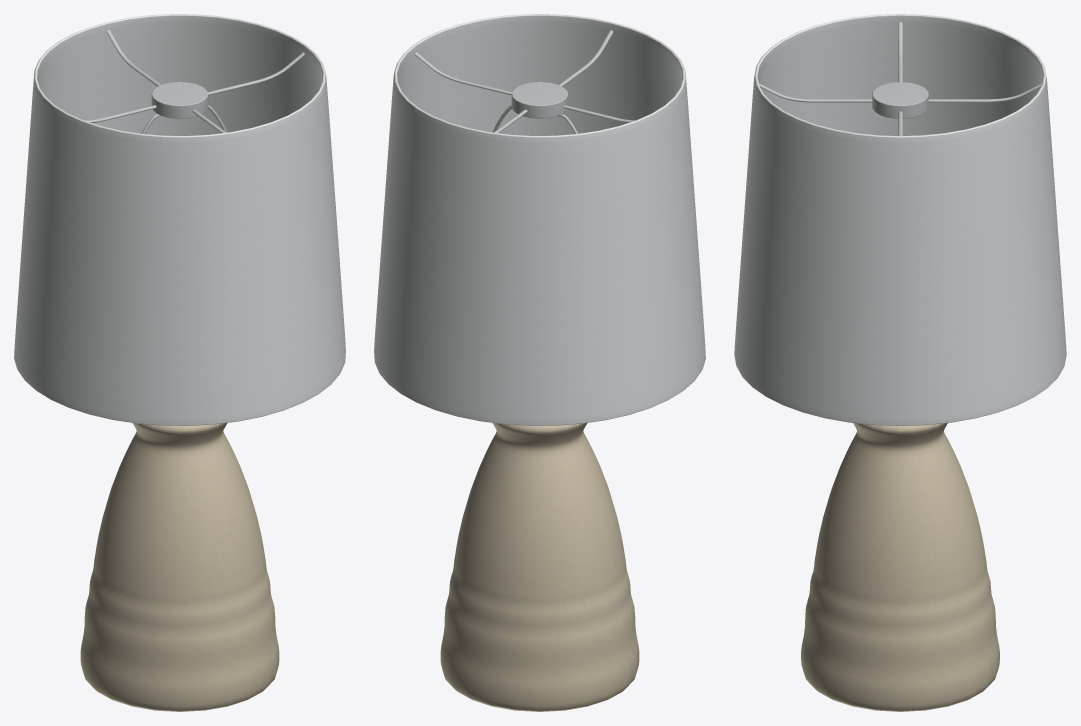
The model's file is B07MBFDHMH.glb.
The picture shows the model from 3 angles, left to right: view 1: azimuth 30°, elevation 25°; view 2: azimuth 150°, elevation 25°; view 3: azimuth 270°, elevation 25°; orthographic projection.
Visible parts, largest first — view 1: RootNode; view 2: RootNode; view 3: RootNode.
Part boxes in pixels (left/top/right/bottom): RootNode: left=14, top=14, right=345, bottom=711; RootNode: left=374, top=14, right=705, bottom=711; RootNode: left=734, top=14, right=1066, bottom=711.
Bounding box in the file's own units: 0.1862 × 0.3695 × 0.1862.
1 material, 1 textured.
